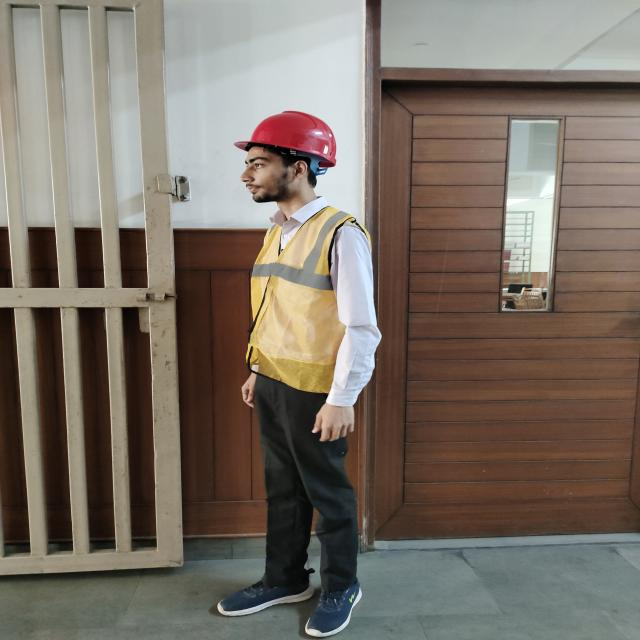safe: (217, 112, 379, 640)
